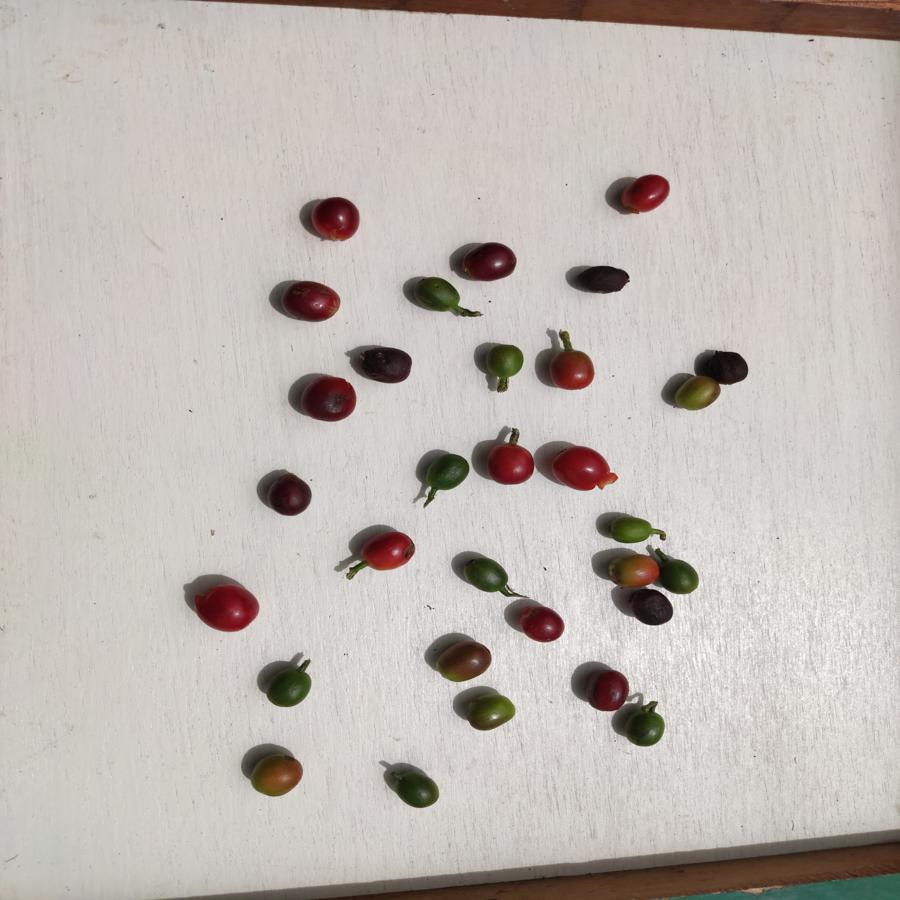Inmaduro: (265, 663, 314, 708), (624, 705, 668, 752), (462, 552, 512, 592), (412, 275, 462, 315), (481, 340, 528, 382), (422, 452, 473, 490), (657, 556, 702, 597), (395, 773, 442, 809), (608, 513, 652, 545)
Maduro: (549, 445, 622, 493), (195, 583, 262, 633), (357, 526, 418, 572), (618, 170, 672, 218), (485, 441, 538, 488), (545, 348, 598, 391), (515, 602, 568, 643)
Pinton: (435, 636, 494, 685), (247, 753, 306, 797), (465, 691, 518, 733), (669, 372, 725, 411), (607, 551, 661, 590)
Sobremaduro: (279, 280, 343, 326), (297, 374, 358, 422), (262, 471, 315, 521), (355, 342, 416, 385), (459, 241, 518, 285), (309, 195, 362, 243), (571, 261, 637, 298), (582, 667, 631, 715), (626, 585, 675, 629), (699, 348, 752, 387)
